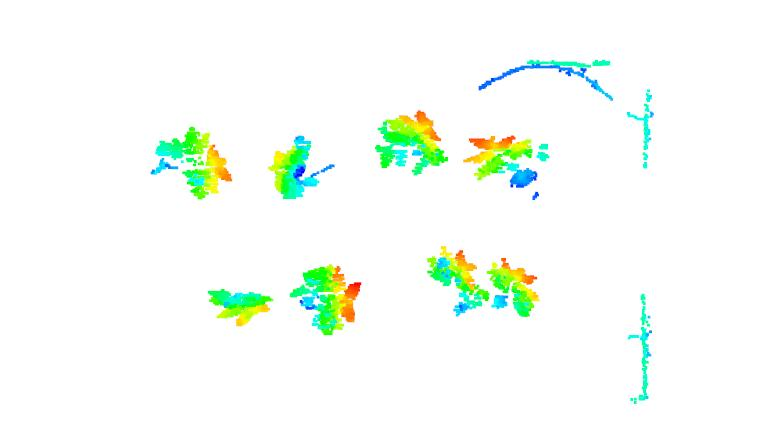chickpea: (462, 132, 554, 202), (153, 124, 236, 201), (290, 264, 364, 339), (371, 109, 448, 177), (425, 246, 491, 318), (266, 133, 324, 201), (488, 257, 543, 320), (203, 283, 273, 327)
